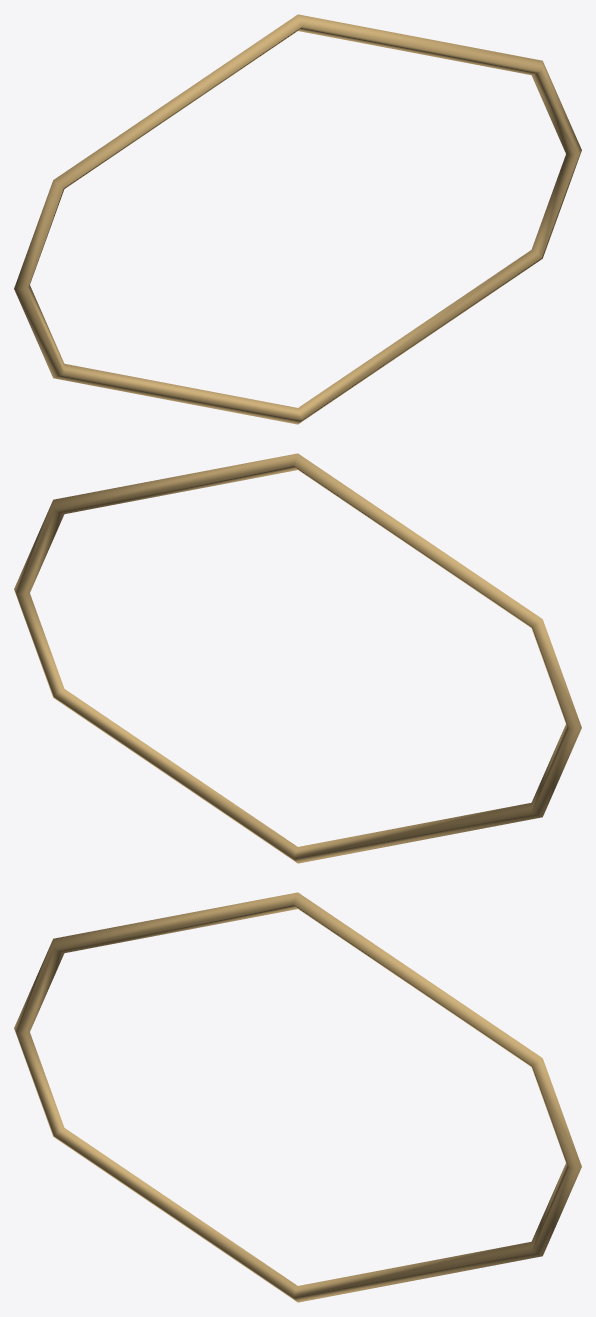
Rendered from m17_level_1.glb.
3 views of the same model, one above another, from view 1: azimuth 30°, elevation 25°; view 2: azimuth 150°, elevation 25°; view 3: azimuth 330°, elevation 25° (orthographic).
Parts seen in each view (by area): view 1: m17_level_1; view 2: m17_level_1; view 3: m17_level_1.
Part boxes in pixels (x1,y1,x2,y2): m17_level_1: (14,14,581,424); m17_level_1: (14,453,581,863); m17_level_1: (14,892,581,1302).
Size of the model in its own units: 2.14 by 1.48 by 0.06.
